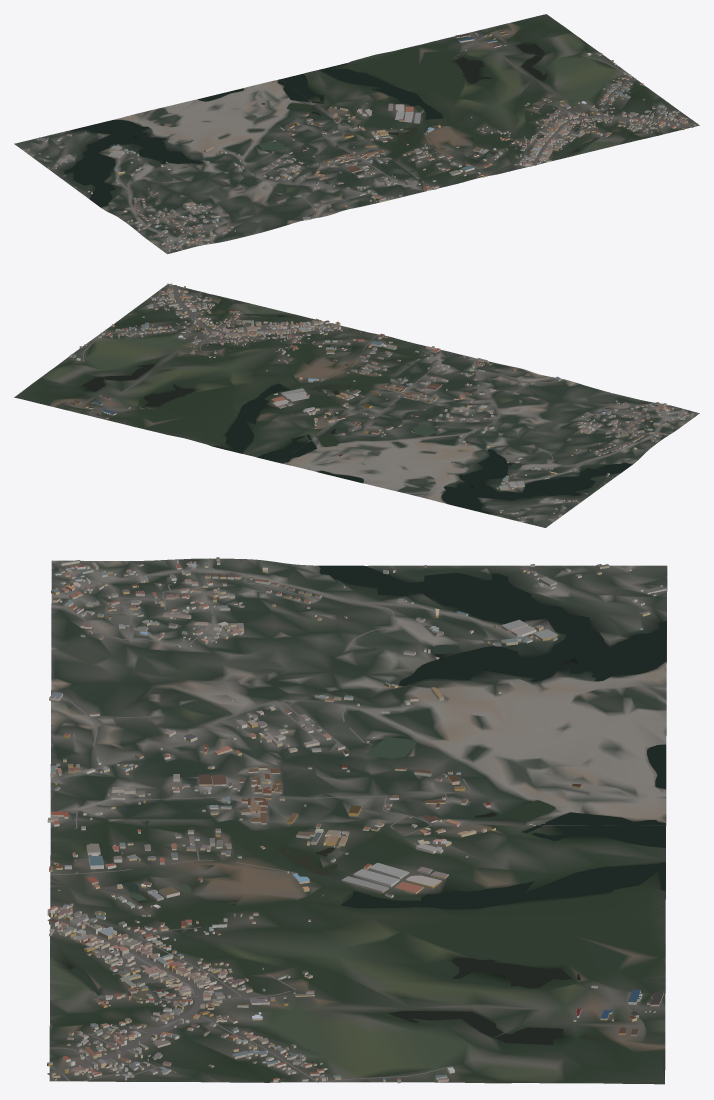
3 renders of one model, top to bottom at view 1: azimuth 30°, elevation 25°; view 2: azimuth 150°, elevation 25°; view 3: azimuth 270°, elevation 25°, orthographic. The views are drawn at different scales.
Parts seen in each view (by area): view 1: ground, buildings, water, roads; view 2: ground, buildings, water, roads; view 3: ground, buildings, water, roads.
Part boxes in pixels (box(x1,y1,x2,y2)): ground: box(14, 14, 699, 254); buildings: box(28, 30, 698, 251); water: box(64, 35, 599, 207); roads: box(24, 56, 694, 248); ground: box(14, 283, 699, 527); buildings: box(69, 283, 693, 521); water: box(72, 313, 632, 514); roads: box(83, 285, 691, 520); ground: box(49, 558, 667, 1084); buildings: box(47, 557, 666, 1083); water: box(70, 565, 666, 1044); roads: box(47, 560, 628, 1082).
Size of the model in its own units: 2805 by 27.74 by 1413.
